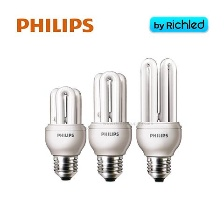light_bulb: (132, 53, 184, 185), (86, 70, 133, 183), (44, 84, 87, 182)
